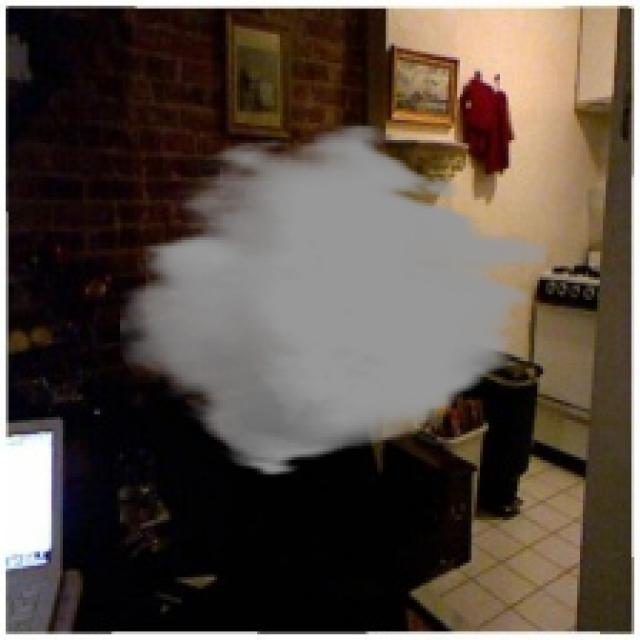smoke: (120, 123, 546, 477)
